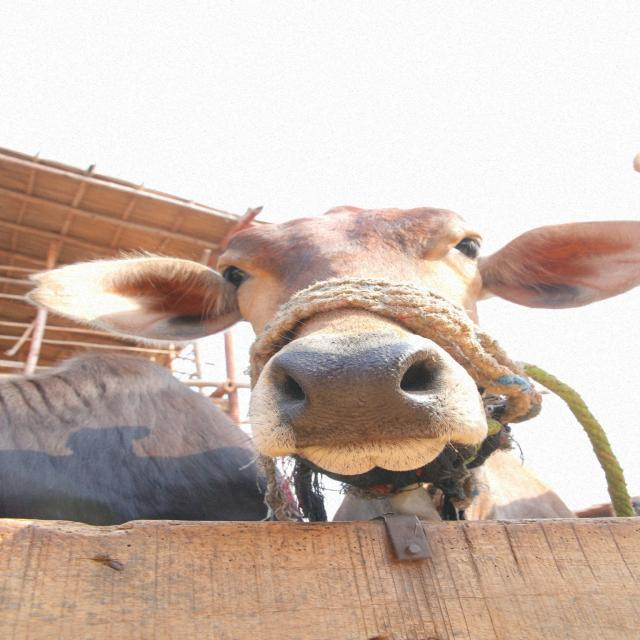muzzles: (249, 342, 482, 449)
